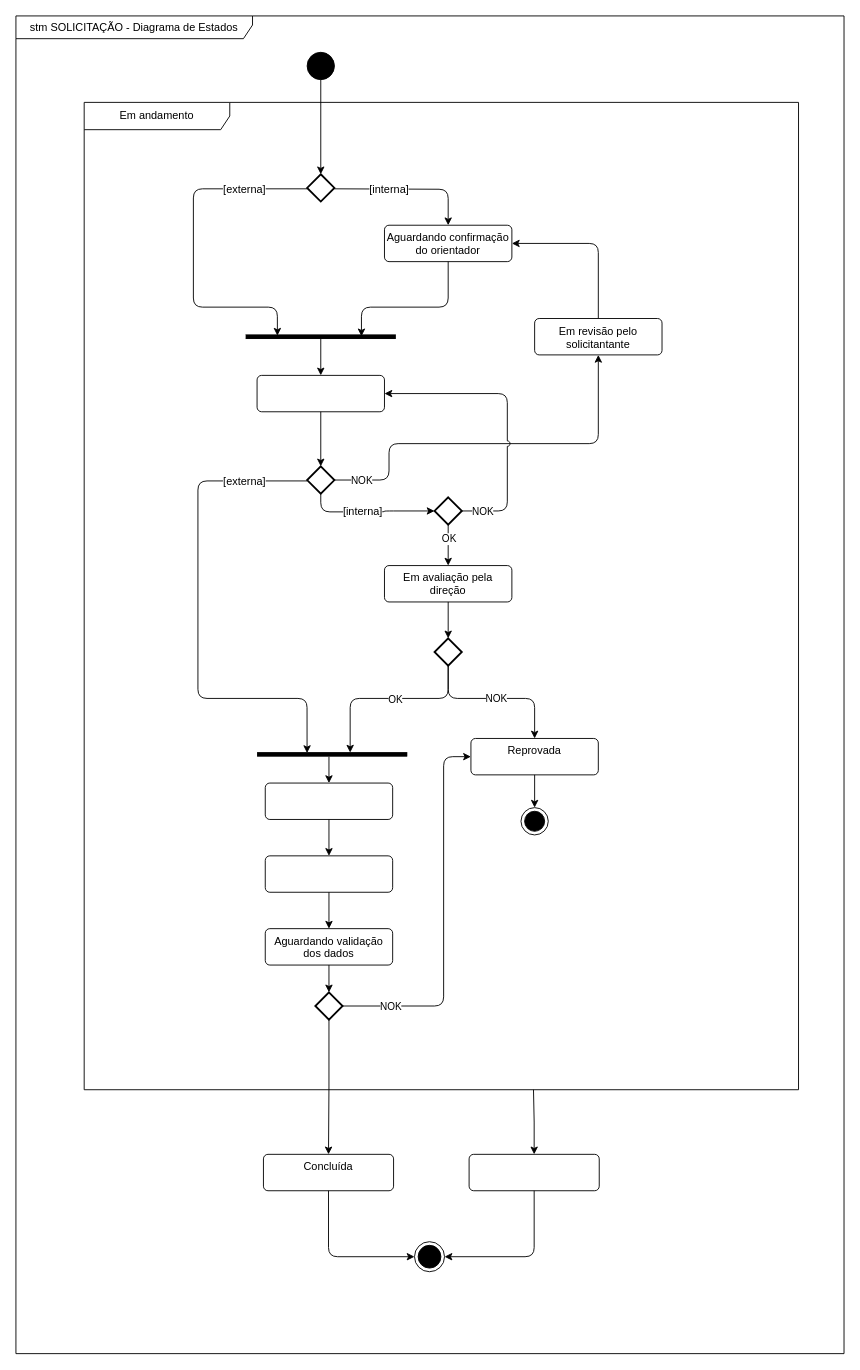
Some shapes in this 860 by 1370 pixel diagram are drawn without their labels. The centre of each missing label's shape, as x and y in pixels:
"Aguardando confirmação do orçamento" belongs at [328,800].
"Aguardando envio de dados das amostras" belongs at [328,873].
"Cancelada" belongs at [533,1172].
"Em avaliação técnica" belongs at [320,393].
